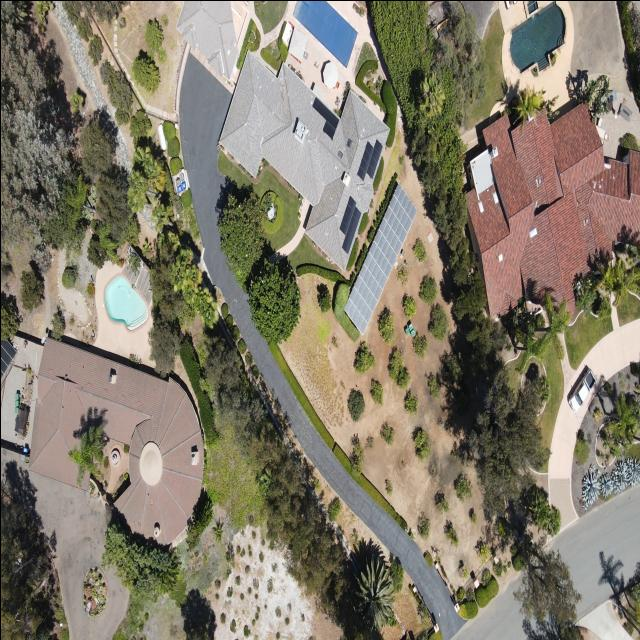solar-panels: (336, 181, 422, 335), (302, 94, 345, 139), (332, 194, 364, 254), (353, 135, 384, 183), (0, 338, 16, 377)
